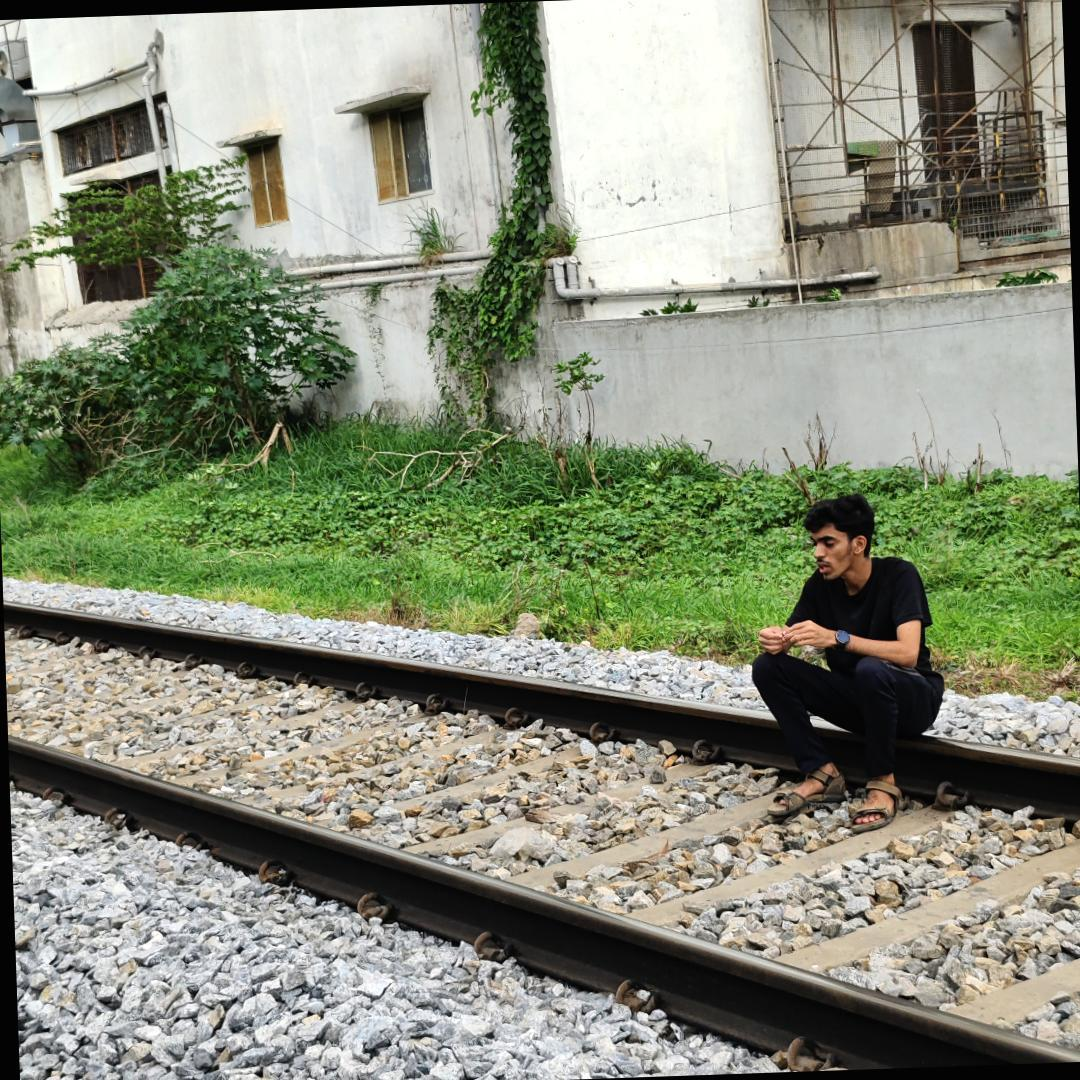sitting: (762, 487, 948, 835)
